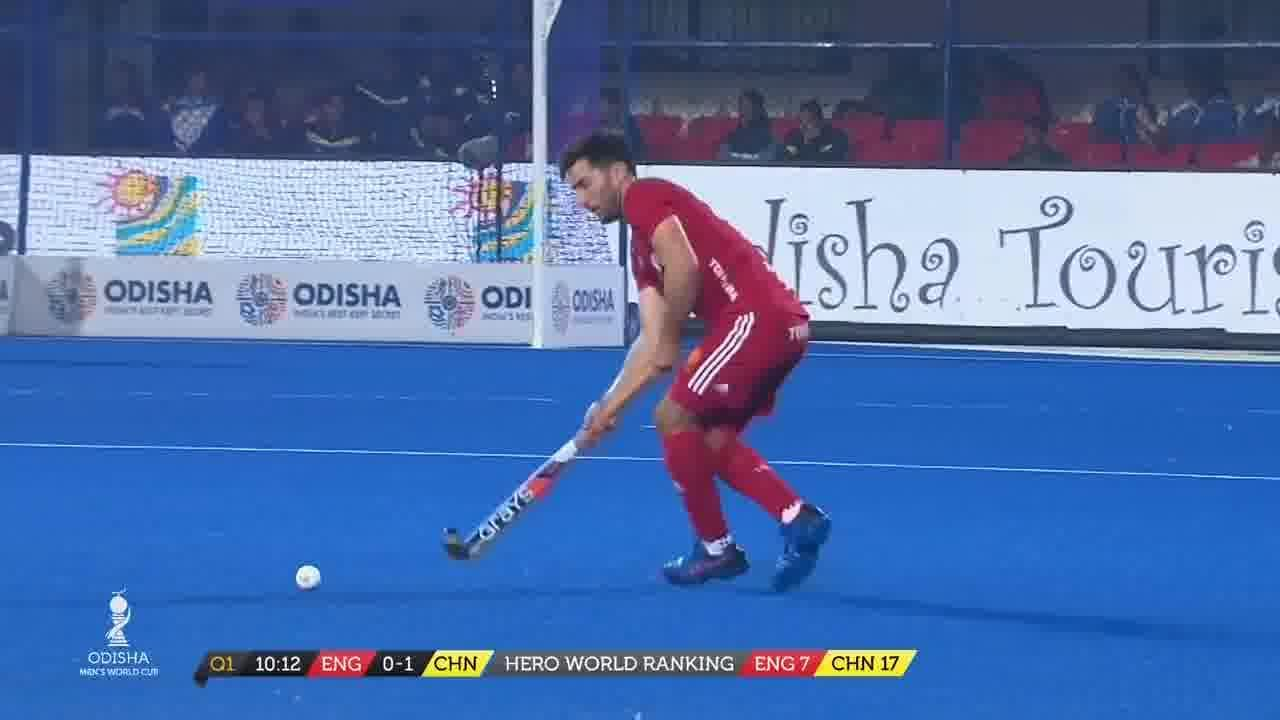ball: (275, 542, 334, 612)
